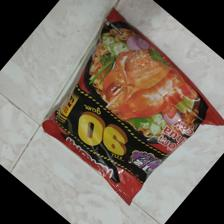Kokomi: (36, 9, 224, 206)
